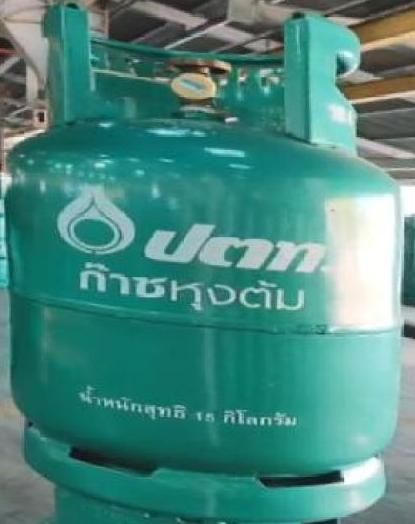cylinder: (1, 1, 415, 524)
